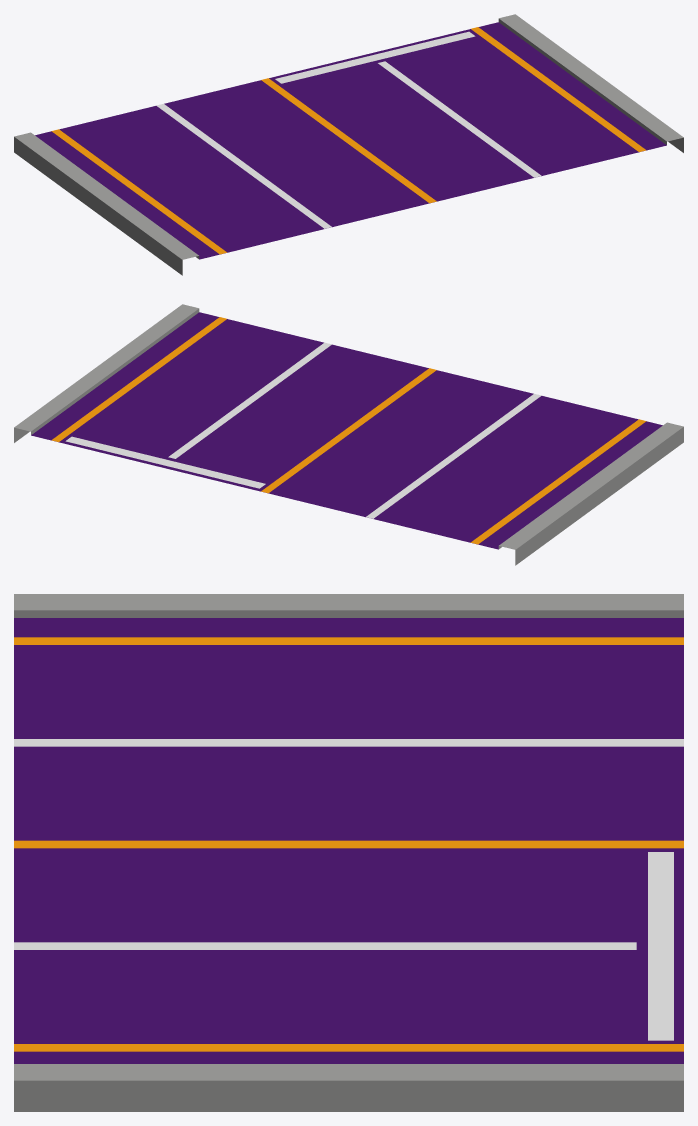
File: Road_C_2L_2_7.fbx
The picture shows the model from 3 angles, top to bottom: view 1: azimuth 30°, elevation 25°; view 2: azimuth 150°, elevation 25°; view 3: azimuth 270°, elevation 25°; orthographic projection. The views are drawn at different scales.
Visible parts, largest first — view 1: Road_C_2L_2_7; view 2: Road_C_2L_2_7; view 3: Road_C_2L_2_7.
Boxes of the visible parts, box(x1,y1,x2,y2) form: Road_C_2L_2_7: box(14, 14, 683, 275); Road_C_2L_2_7: box(14, 304, 683, 565); Road_C_2L_2_7: box(14, 594, 683, 1111).
Bounding box in the file's own units: 1375 × 41.48 × 800.
